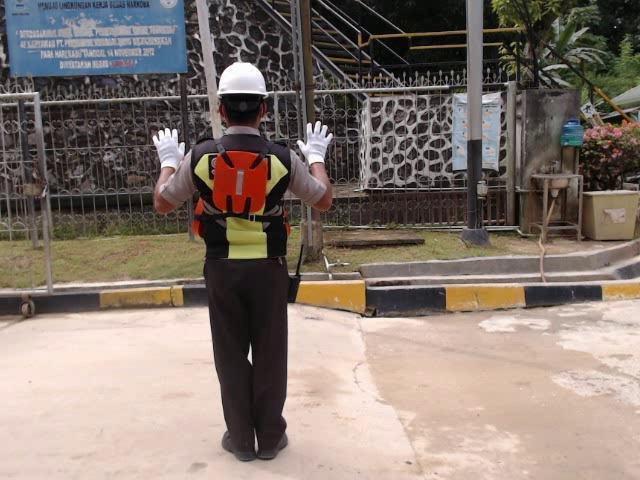vest: (212, 146, 270, 215)
